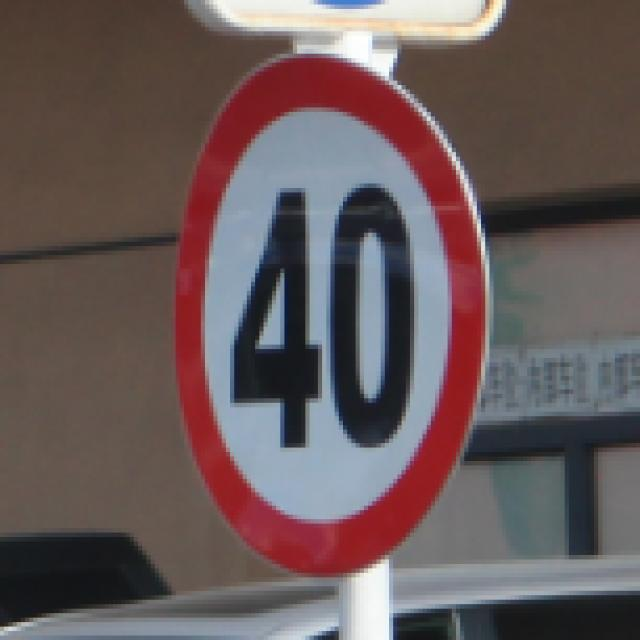Speed: (176, 45, 490, 587)
